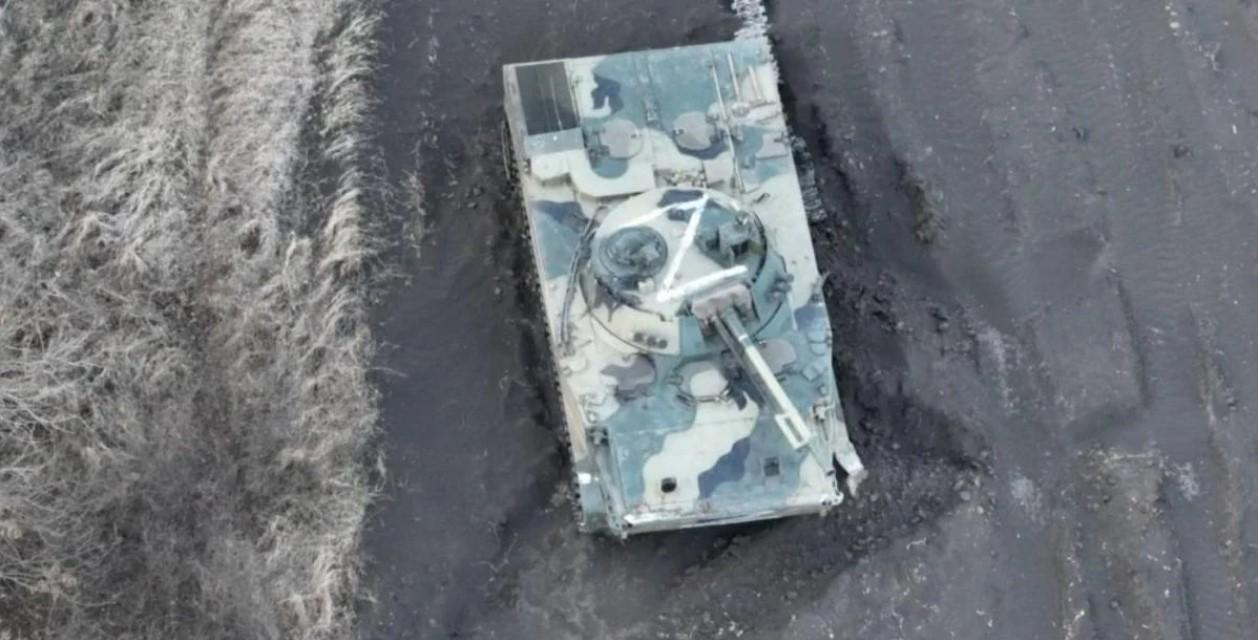armored_car: (486, 33, 877, 550)
